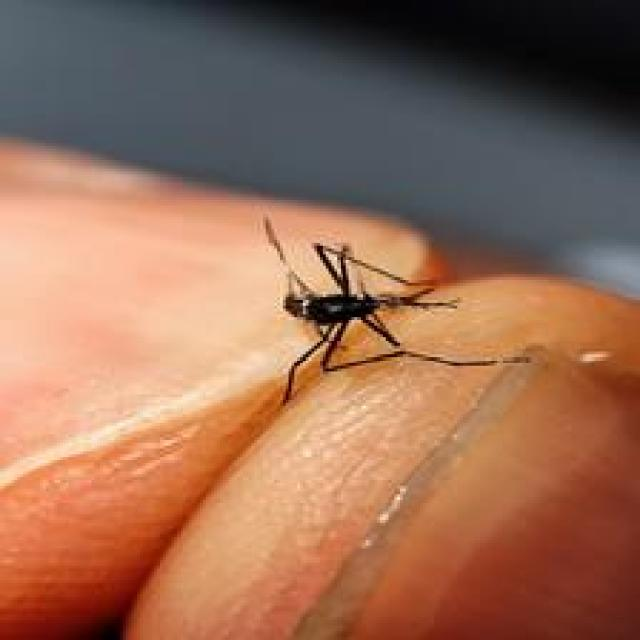Aedes albopictus: (260, 213, 531, 407)
